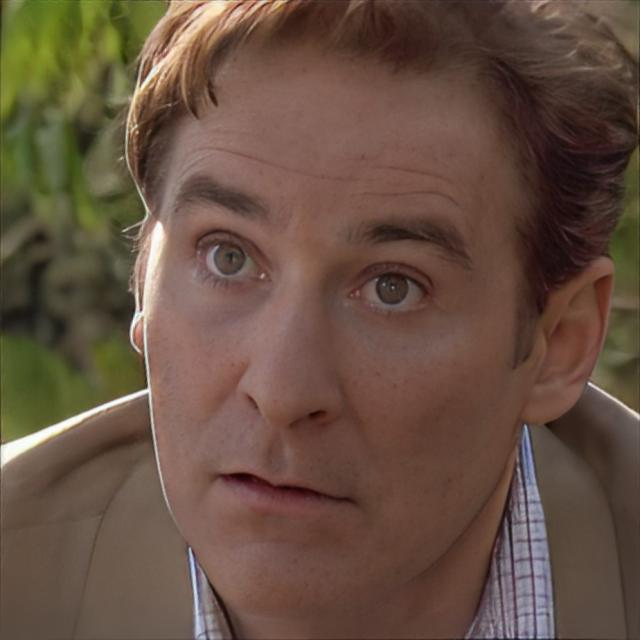surprise: (141, 30, 524, 618)
